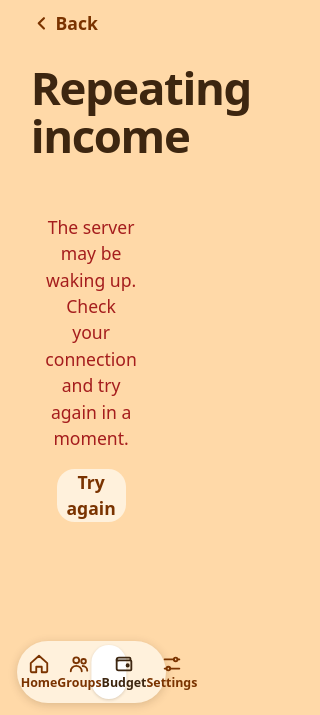
Test: the repeating income screen › loading and failing › asks again and shows the blocks when Try again is pressed
Click the button "Try again". click: (91, 495)
box: [56,468,127,523]
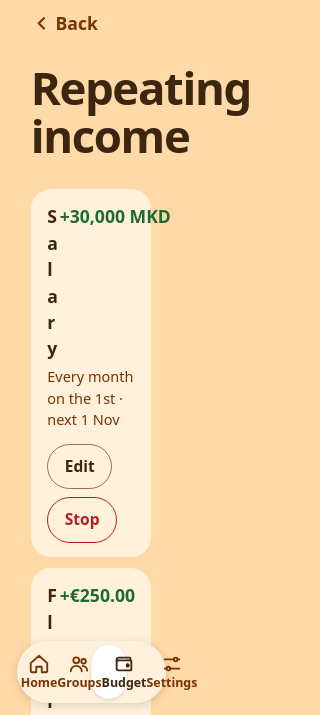
Expected: the number of list items is 3
